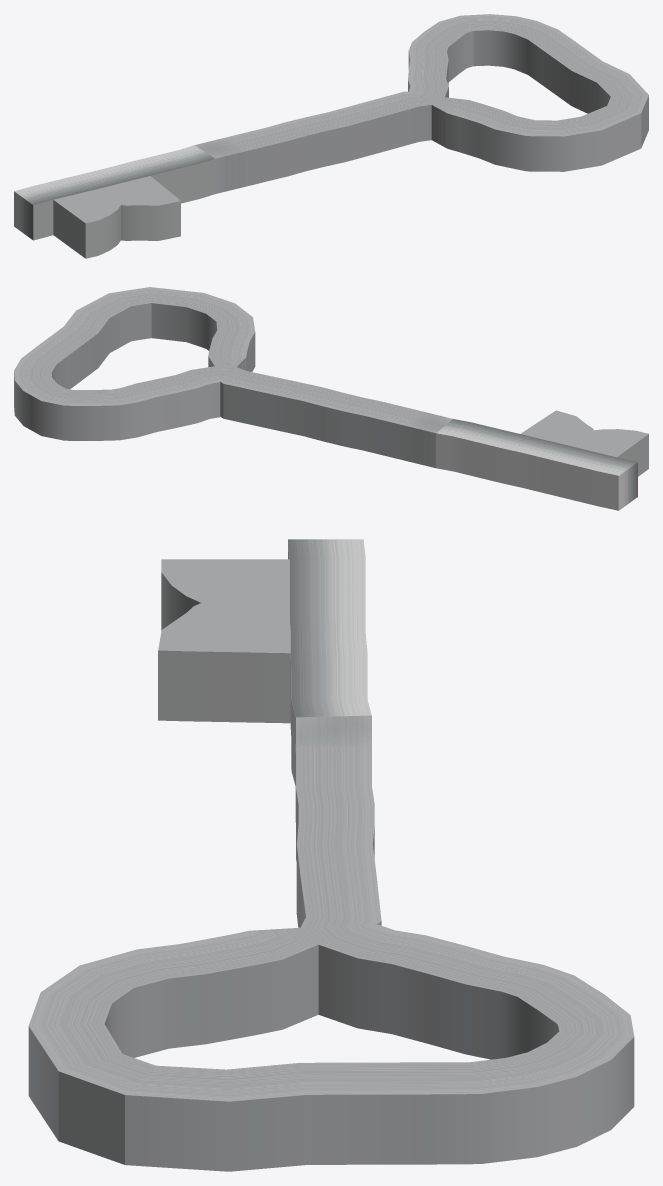
File: key.fbx
The picture shows the model from 3 angles, top to bottom: view 1: azimuth 30°, elevation 25°; view 2: azimuth 150°, elevation 25°; view 3: azimuth 270°, elevation 25°; orthographic projection. The views are drawn at different scales.
Visible parts, largest first — view 1: Cube; view 2: Cube; view 3: Cube.
Part boxes in pixels (x1,y1,x2,y2): Cube: [14, 14, 648, 258]; Cube: [14, 287, 648, 510]; Cube: [28, 539, 634, 1171].
Size of the model in its own units: 274 by 15.91 by 125.
1 material, 1 textured.
